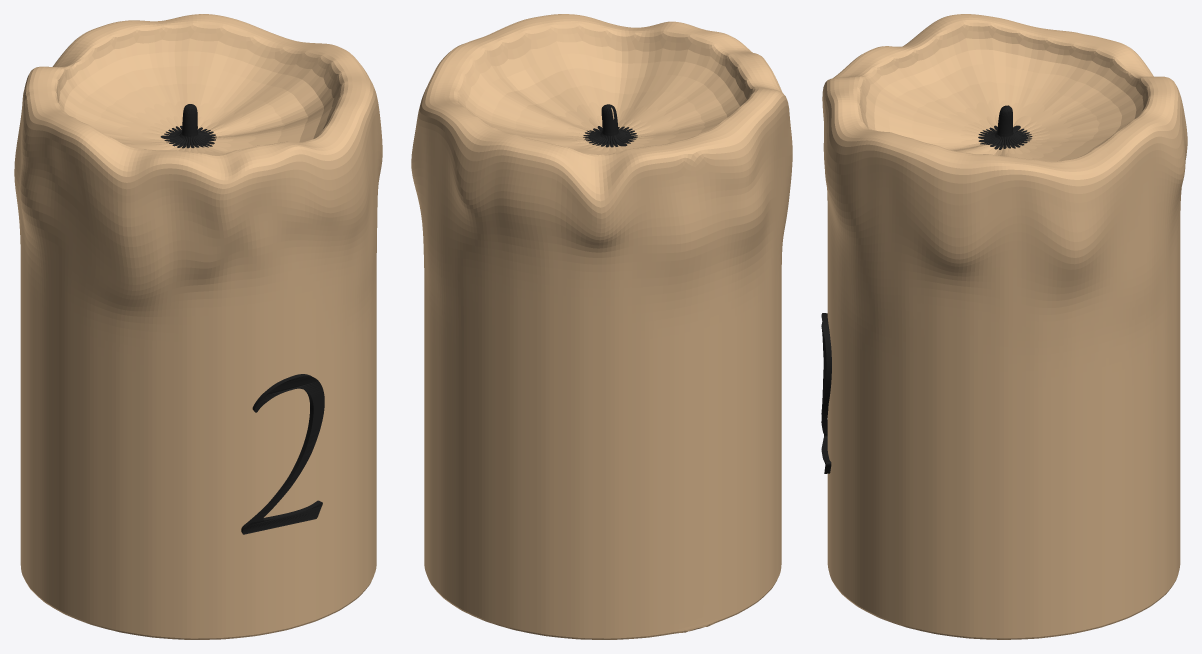
The model's file is Candle-2.fbx.
3 renders of one model, left to right at view 1: azimuth 30°, elevation 25°; view 2: azimuth 150°, elevation 25°; view 3: azimuth 270°, elevation 25°, orthographic.
Parts seen in each view (by area): view 1: Candle, Text; view 2: Candle; view 3: Candle, Text.
Boxes of the visible parts, x1,y1,x2,y2 form: Candle: [14, 14, 382, 639]; Text: [241, 374, 324, 534]; Candle: [411, 14, 792, 639]; Candle: [822, 14, 1187, 639]; Text: [821, 313, 831, 473].
Size of the model in its own units: 41.75 by 60.84 by 41.42.
